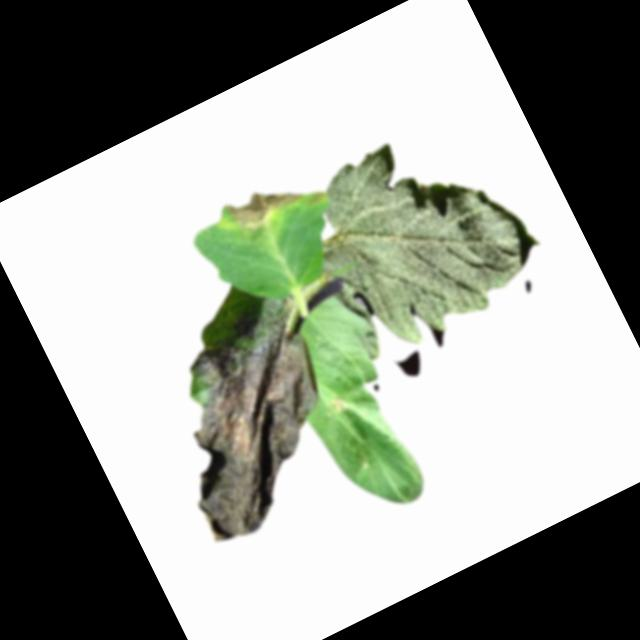Late_blight: (130, 291, 374, 551), (223, 169, 313, 238), (328, 392, 356, 421)
healthy: (290, 101, 557, 364)
